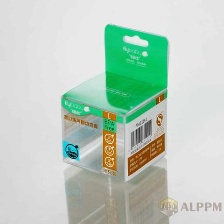plastic_box: (48, 16, 178, 187)
